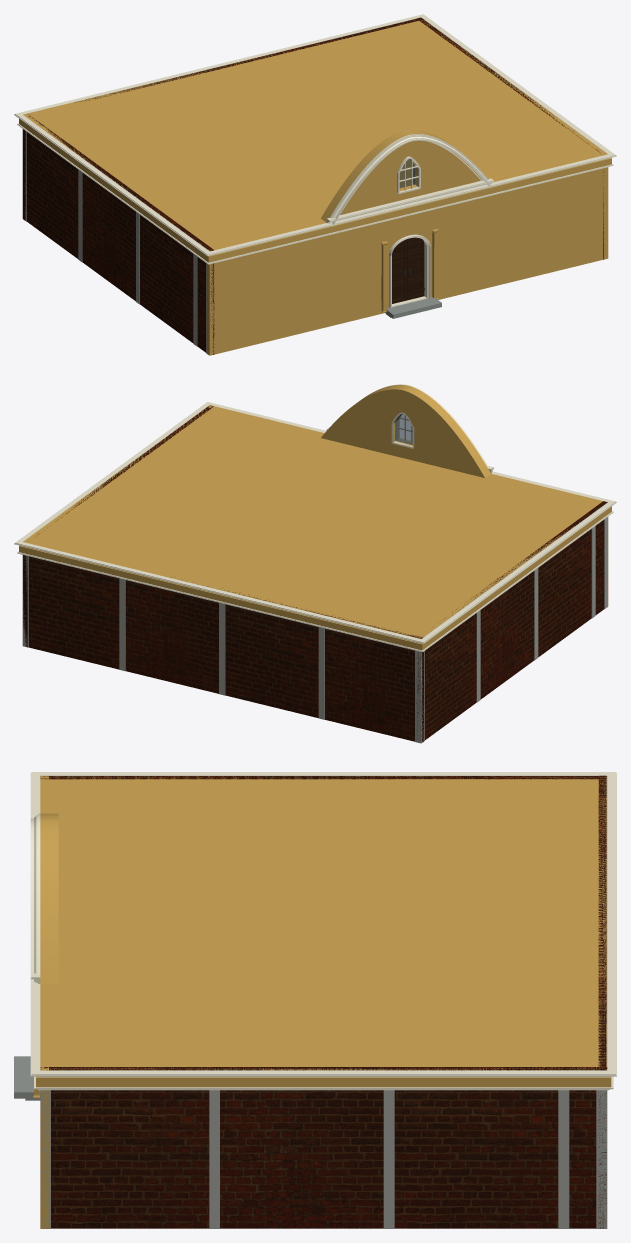
The model's file is building.glb.
The picture shows the model from 3 angles, top to bottom: view 1: azimuth 30°, elevation 25°; view 2: azimuth 150°, elevation 25°; view 3: azimuth 270°, elevation 25°; orthographic projection. The views are drawn at different scales.
Parts seen in each view (by area): view 1: roof/house:0/roof_slab#0001, house:0/edge0/z0/house:0/edge0/z0/wall_0_0, house:0/edge3/z0/house:0/edge3/z0/wall_0_0, entablature/entablamento/2/entablature_cornice#0001, crown/coronamiento/crown_body#0001, entablature/entablamento/1/entablature_frieze#0001, entablature/entablamento/0/entablature_architrave#0001, crown/coronamiento/crown_moulding#0001, house:0/edge2/z0/house:0/edge2/z0/wall_0_0, crown/coronamiento/crown_base_cornice#0001, house:0/edge1/z0/house:0/edge1/z0/wall_0_0, site/entrance/0/entrance_step#0002; view 2: roof/house:0/roof_slab#0001, house:0/edge2/z0/house:0/edge2/z0/wall_0_0, house:0/edge3/z0/house:0/edge3/z0/wall_0_0, crown/coronamiento/crown_body#0001, entablature/entablamento/2/entablature_cornice#0001, entablature/entablamento/1/entablature_frieze#0001, entablature/entablamento/0/entablature_architrave#0001, house:0/edge1/z0/house:0/edge1/z0/wall_0_0, house:0/edge0/z0/house:0/edge0/z0/wall_0_0, house:0/edge2/z0/house:0/edge2/z0/column_4_0, house:0/edge2/z0/house:0/edge2/z0/column_2_0, house:0/edge2/z0/house:0/edge2/z0/column_3_0 (+1 smaller); view 3: roof/house:0/roof_slab#0001, house:0/edge1/z0/house:0/edge1/z0/wall_0_0, entablature/entablamento/2/entablature_cornice#0001, entablature/entablamento/1/entablature_frieze#0001, crown/coronamiento/crown_body#0001, house:0/edge2/z0/house:0/edge2/z0/wall_0_0, entablature/entablamento/0/entablature_architrave#0001, house:0/edge0/z0/house:0/edge0/z0/wall_0_0, house:0/edge3/z0/house:0/edge3/z0/wall_0_0, crown/coronamiento/crown_moulding#0001, house:0/edge1/z0/house:0/edge1/z0/column_3_0, house:0/edge1/z0/house:0/edge1/z0/column_4_0 (+4 smaller).
Boxes of the visible parts, x1,y1,x2,y2 form: roof/house:0/roof_slab#0001: [23, 19, 606, 249]; house:0/edge0/z0/house:0/edge0/z0/wall_0_0: [206, 152, 608, 355]; house:0/edge3/z0/house:0/edge3/z0/wall_0_0: [26, 115, 214, 354]; entablature/entablamento/2/entablature_cornice#0001: [14, 14, 616, 256]; crown/coronamiento/crown_body#0001: [321, 129, 482, 221]; entablature/entablamento/1/entablature_frieze#0001: [19, 119, 611, 262]; entablature/entablamento/0/entablature_architrave#0001: [17, 123, 613, 264]; crown/coronamiento/crown_moulding#0001: [328, 134, 491, 226]; house:0/edge2/z0/house:0/edge2/z0/wall_0_0: [23, 18, 423, 220]; crown/coronamiento/crown_base_cornice#0001: [326, 178, 494, 223]; house:0/edge1/z0/house:0/edge1/z0/wall_0_0: [417, 17, 604, 259]; site/entrance/0/entrance_step#0002: [385, 297, 441, 318]; roof/house:0/roof_slab#0001: [23, 406, 600, 638]; house:0/edge2/z0/house:0/edge2/z0/wall_0_0: [29, 556, 424, 742]; house:0/edge3/z0/house:0/edge3/z0/wall_0_0: [416, 501, 607, 739]; crown/coronamiento/crown_body#0001: [321, 385, 490, 477]; entablature/entablamento/2/entablature_cornice#0001: [14, 402, 616, 643]; entablature/entablamento/1/entablature_frieze#0001: [19, 506, 611, 650]; entablature/entablamento/0/entablature_architrave#0001: [17, 511, 613, 652]; house:0/edge1/z0/house:0/edge1/z0/wall_0_0: [23, 405, 213, 647]; house:0/edge0/z0/house:0/edge0/z0/wall_0_0: [208, 405, 608, 606]; house:0/edge2/z0/house:0/edge2/z0/column_4_0: [318, 627, 324, 719]; house:0/edge2/z0/house:0/edge2/z0/column_2_0: [119, 578, 125, 671]; house:0/edge2/z0/house:0/edge2/z0/column_3_0: [219, 603, 225, 695]; roof/house:0/roof_slab#0001: [40, 775, 607, 1070]; house:0/edge1/z0/house:0/edge1/z0/wall_0_0: [40, 1067, 607, 1228]; entablature/entablamento/2/entablature_cornice#0001: [30, 772, 616, 1077]; entablature/entablamento/1/entablature_frieze#0001: [36, 1077, 611, 1087]; crown/coronamiento/crown_body#0001: [42, 813, 58, 983]; house:0/edge2/z0/house:0/edge2/z0/wall_0_0: [598, 775, 606, 1228]; entablature/entablamento/0/entablature_architrave#0001: [34, 1076, 613, 1090]; house:0/edge0/z0/house:0/edge0/z0/wall_0_0: [40, 775, 48, 1228]; house:0/edge3/z0/house:0/edge3/z0/wall_0_0: [40, 776, 606, 779]; crown/coronamiento/crown_moulding#0001: [30, 813, 40, 983]; house:0/edge1/z0/house:0/edge1/z0/column_3_0: [383, 1090, 394, 1228]; house:0/edge1/z0/house:0/edge1/z0/column_4_0: [558, 1090, 569, 1228].
Size of the model in its own units: 16.44 by 6.66 by 13.82.
Materials: 9 (2 with a texture image).
